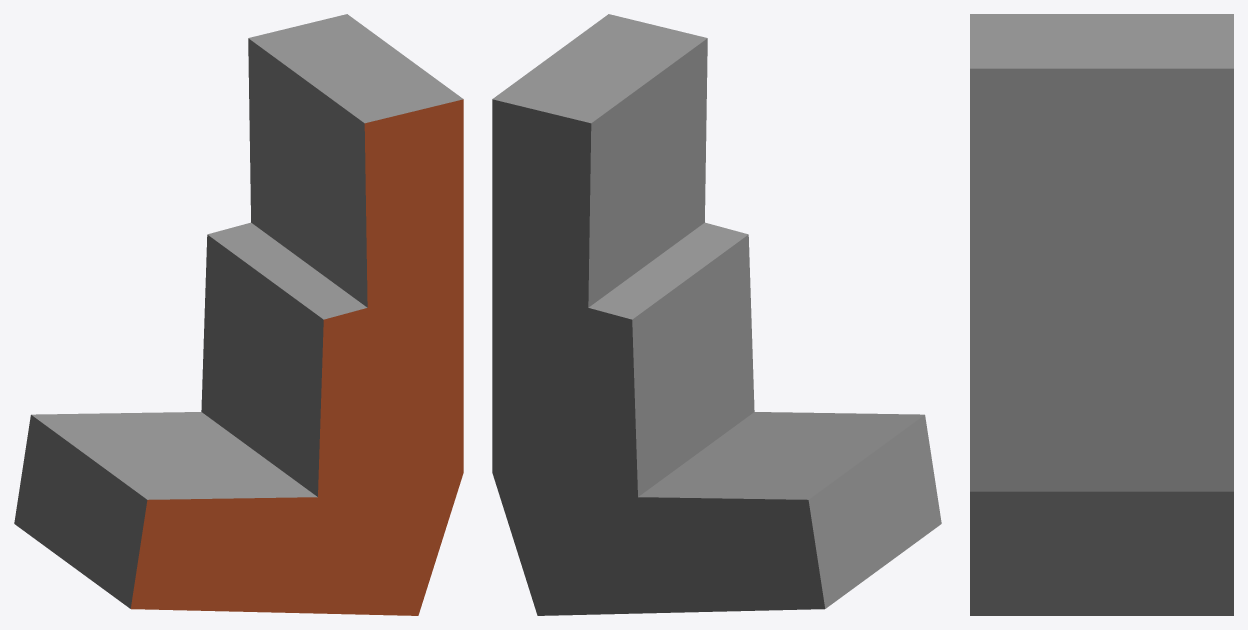
The model's file is construction_6606_assumed_A_Casa_h6m.obj.
3 renders of one model, left to right at view 1: azimuth 30°, elevation 25°; view 2: azimuth 150°, elevation 25°; view 3: azimuth 270°, elevation 25°, orthographic. The views are drawn at different scales.
Parts seen in each view (by area): view 1: construction_6606_assumed_A_Casa; view 2: construction_6606_assumed_A_Casa; view 3: construction_6606_assumed_A_Casa.
Part boxes in pixels (x1,y1,x2,y2): construction_6606_assumed_A_Casa: (14,14,463,615); construction_6606_assumed_A_Casa: (492,14,941,615); construction_6606_assumed_A_Casa: (970,14,1233,615).
Size of the model in its own units: 9.9 by 14.37 by 6.
